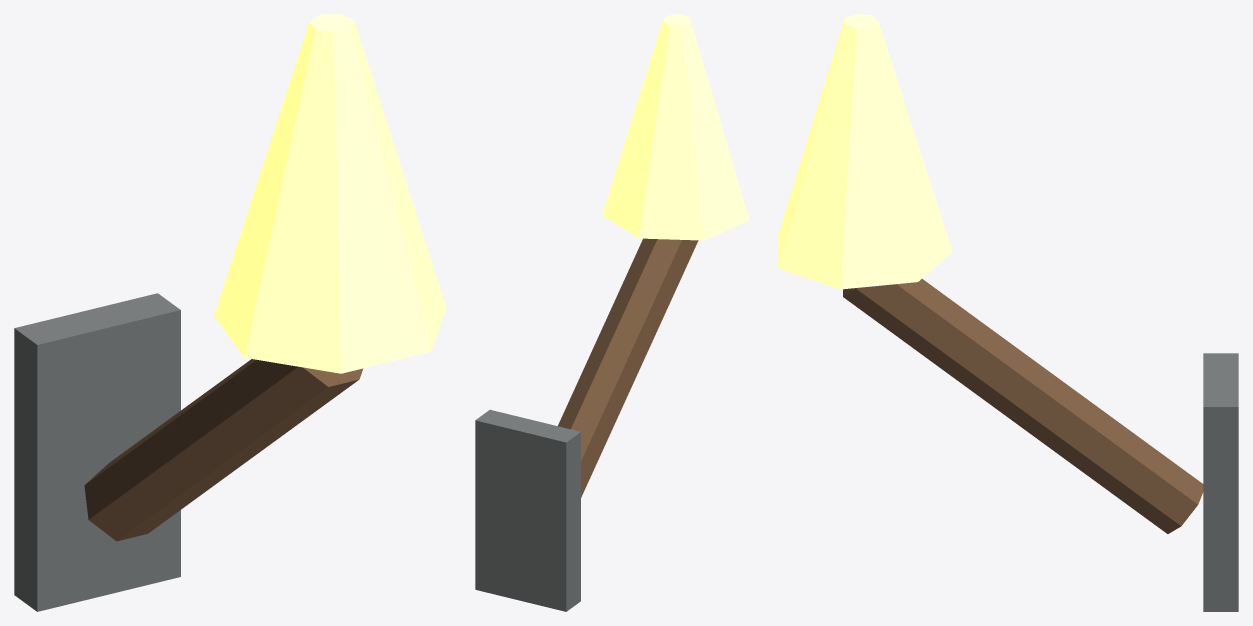
Rendered from wall_torch_02.glb.
3 views of the same model, side by side, from view 1: azimuth 30°, elevation 25°; view 2: azimuth 150°, elevation 25°; view 3: azimuth 270°, elevation 25° (orthographic). The views are drawn at different scales.
Parts seen in each view (by area): view 1: wall_torch_02; view 2: wall_torch_02; view 3: wall_torch_02.
Boxes of the visible parts, <box> form: wall_torch_02: <box>14,14,446,611</box>; wall_torch_02: <box>475,14,749,611</box>; wall_torch_02: <box>778,14,1238,611</box>.
Bounding box in the file's own units: 0.2535 × 0.8808 × 0.6521.
